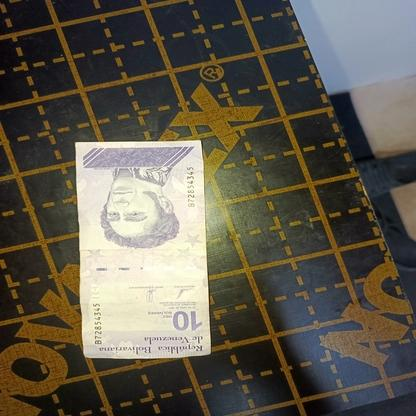ten-front-vef: (75, 140, 213, 360)
